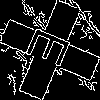E: (25, 25, 80, 74)
